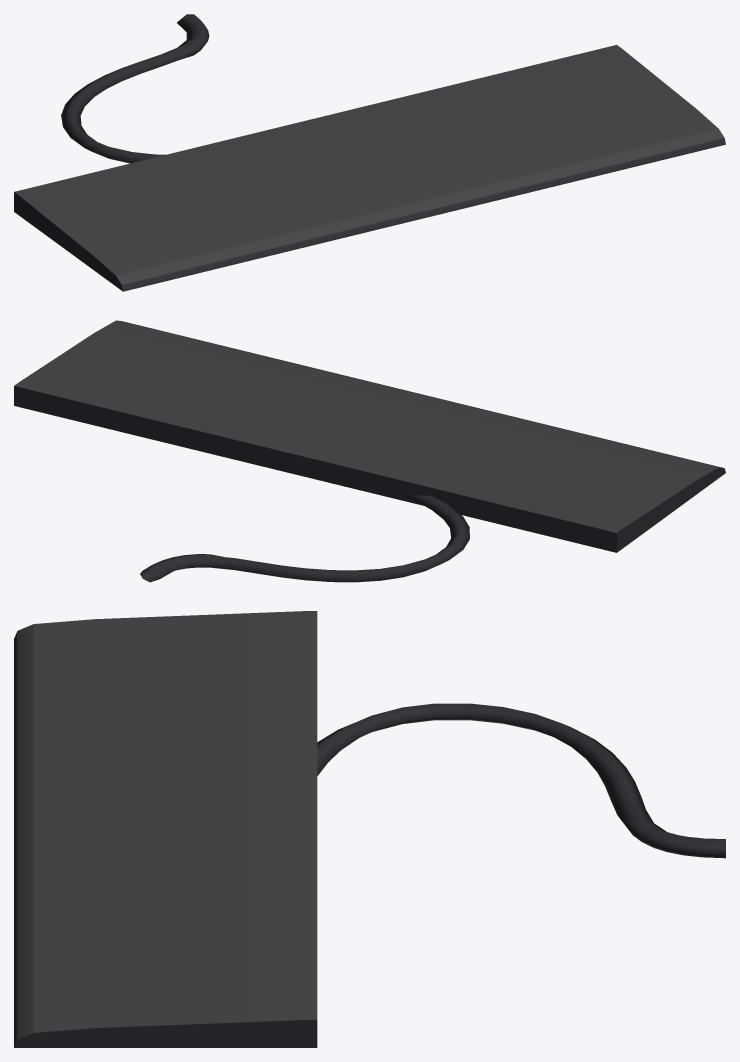
The model's file is multimedia_keyboard.fbx.
3 renders of one model, top to bottom at view 1: azimuth 30°, elevation 25°; view 2: azimuth 150°, elevation 25°; view 3: azimuth 270°, elevation 25°, orthographic. The views are drawn at different scales.
Visible parts, largest first — view 1: multimedia_keyboard; view 2: multimedia_keyboard; view 3: multimedia_keyboard.
Part boxes in pixels (x1,y1,x2,y2): multimedia_keyboard: (14, 14, 725, 291); multimedia_keyboard: (14, 320, 725, 582); multimedia_keyboard: (14, 611, 725, 1047).
Size of the model in its own units: 0.00384 by 0.000122 by 0.00283.
Materials: 1 (1 with a texture image).
